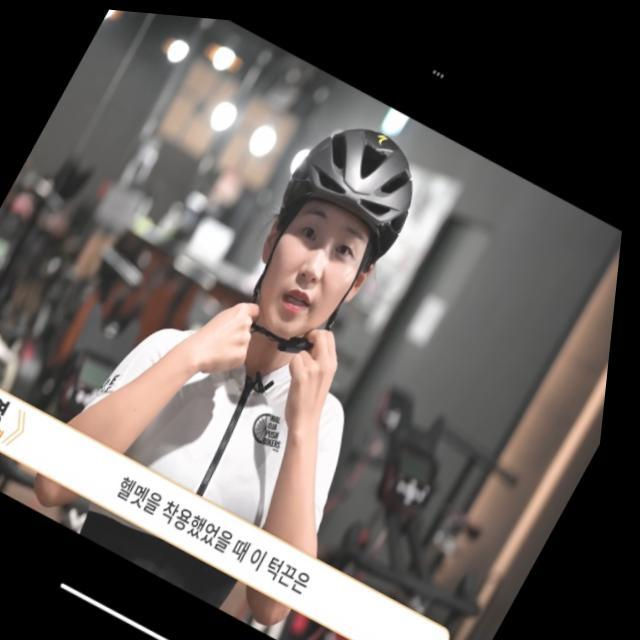Helmet: (246, 113, 413, 340)
